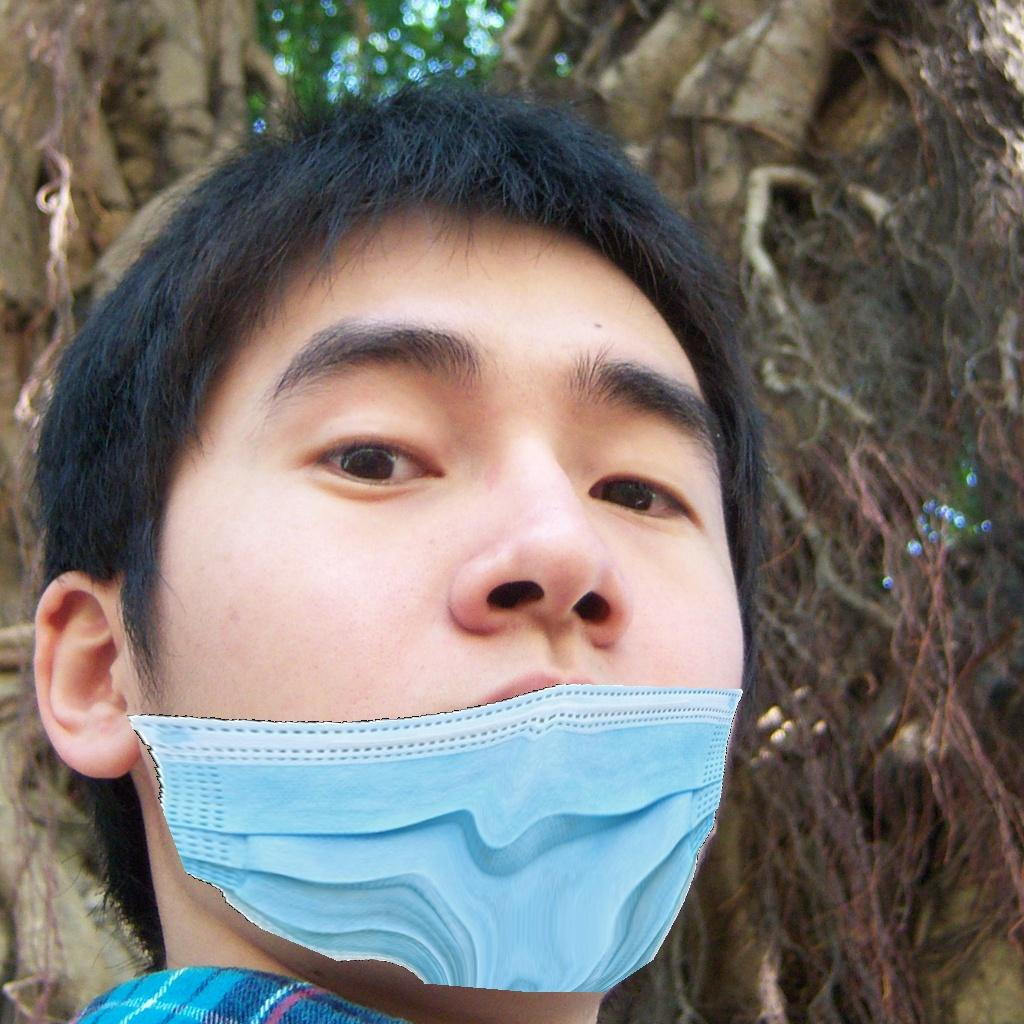Máscara Incorreta: (161, 256, 751, 980)
